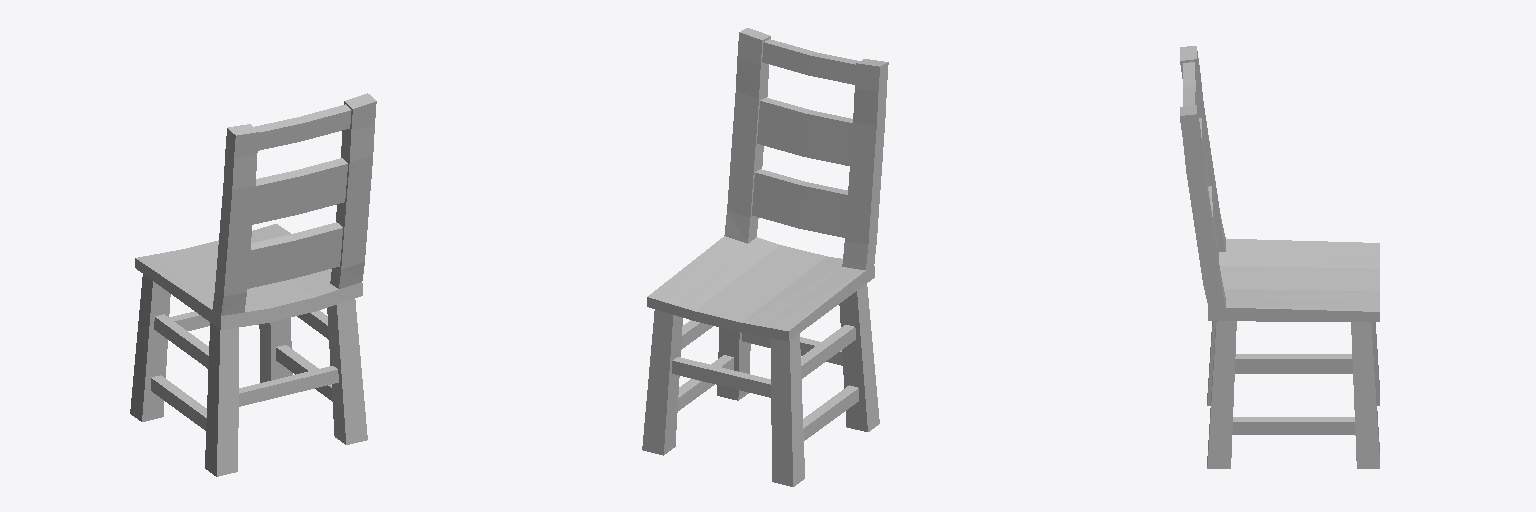
File: pcity_nodes_chair.obj
3 views of the same model, side by side, from view 1: azimuth 30°, elevation 25°; view 2: azimuth 150°, elevation 25°; view 3: azimuth 270°, elevation 25° (orthographic).
Parts seen in each view (by area): view 1: Seat, Legs, Bars; view 2: Seat, Legs, Bars; view 3: Seat, Legs, Bars.
Boxes of the visible parts, <box> form: Seat: <box>135,93,376,329</box>; Legs: <box>130,274,367,476</box>; Bars: <box>151,310,338,430</box>; Seat: <box>647,28,888,340</box>; Legs: <box>642,284,879,486</box>; Bars: <box>672,320,858,440</box>; Seat: <box>1180,46,1379,321</box>; Legs: <box>1207,321,1379,468</box>; Bars: <box>1232,354,1354,434</box>.
Size of the model in its own units: 0.9793 by 2.18 by 1.13.